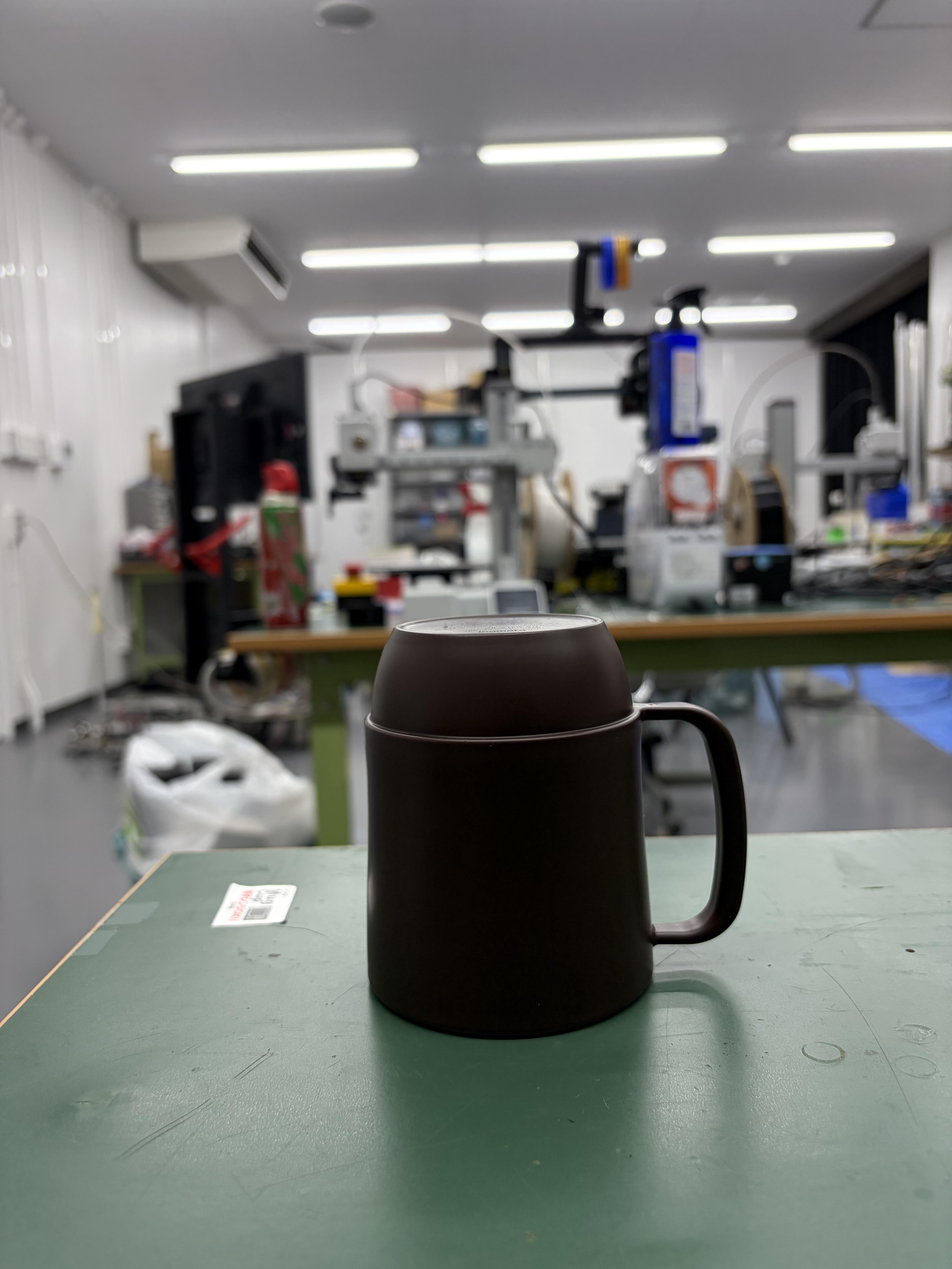mug-real100-3d100: (366, 614, 746, 1038)
